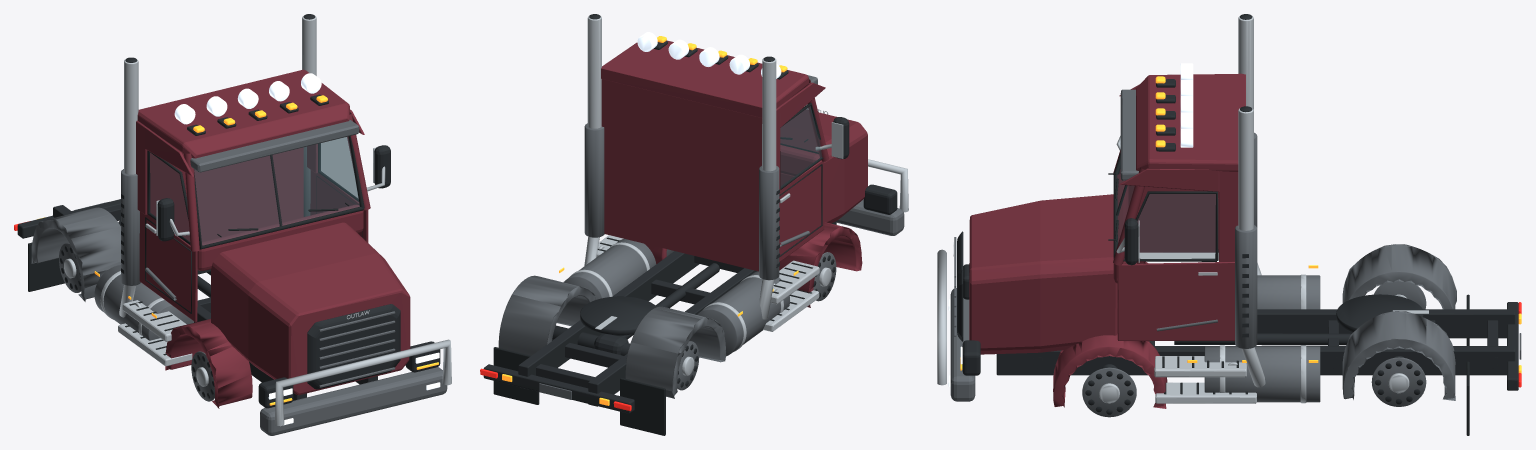
File: Outlaw_LOD1.fbx
The picture shows the model from 3 angles, left to right: view 1: azimuth 30°, elevation 25°; view 2: azimuth 150°, elevation 25°; view 3: azimuth 270°, elevation 25°; orthographic projection. The views are drawn at different scales.
Visible parts, largest first — view 1: CabExterior__TT_Paint_Primary.001, Chassis__TT_Paint_Primary.001, Chassis__TT_MetalTrim.001, CabExterior__TT_Glass.001, Chassis__TT_Chassis.001, Chassis__TT_Chrome.001, CabExterior__TT_Rubber.001, CabExterior__TT_MetalTrim.001, CabExterior__TT_Chrome.001, CabExterior__TT_Chassis.001, LampHighBeam__TT_Headlamp.001, Chassis__TT_Rubber.001 (+3 smaller); view 2: CabExterior__TT_Paint_Primary.001, Chassis__TT_MetalTrim.001, Chassis__TT_Chassis.001, Chassis__TT_Paint_Primary.001, Chassis__TT_Chrome.001, Chassis__TT_Rubber.001, CabExterior__TT_Chrome.001, CabExterior__TT_Glass.001, LampHighBeam__TT_Headlamp.001, CabExterior__TT_Rubber.001, CabExterior__TT_Chassis.001, Wheel_RR__TT_MetalTrim.001 (+2 smaller); view 3: CabExterior__TT_Paint_Primary.001, Chassis__TT_Paint_Primary.001, Chassis__TT_MetalTrim.001, Chassis__TT_Chassis.001, Chassis__TT_Chrome.001, CabExterior__TT_Glass.001, CabExterior__TT_Chrome.001, CabExterior__TT_Rubber.001, Wheel_FL__TT_MetalTrim.001, Wheel_RL__TT_MetalTrim.001, CabExterior__TT_Chassis.001, CabExterior__TT_MetalTrim.001 (+2 smaller).
Boxes of the visible parts, bbox=[...] form: CabExterior__TT_Paint_Primary.001: bbox=[136, 69, 370, 322]; Chassis__TT_Paint_Primary.001: bbox=[165, 222, 410, 408]; Chassis__TT_MetalTrim.001: bbox=[31, 146, 447, 435]; CabExterior__TT_Glass.001: bbox=[149, 137, 359, 245]; Chassis__TT_Chassis.001: bbox=[17, 14, 440, 408]; Chassis__TT_Chrome.001: bbox=[100, 16, 451, 425]; CabExterior__TT_Rubber.001: bbox=[125, 136, 364, 355]; CabExterior__TT_MetalTrim.001: bbox=[190, 119, 359, 172]; CabExterior__TT_Chrome.001: bbox=[118, 166, 385, 366]; CabExterior__TT_Chassis.001: bbox=[157, 94, 390, 241]; LampHighBeam__TT_Headlamp.001: bbox=[174, 73, 321, 124]; Chassis__TT_Rubber.001: bbox=[28, 202, 349, 291]; CabExterior__TT_Paint_Primary.001: bbox=[601, 40, 829, 271]; Chassis__TT_MetalTrim.001: bbox=[498, 123, 904, 399]; Chassis__TT_Chassis.001: bbox=[483, 14, 897, 413]; Chassis__TT_Paint_Primary.001: bbox=[644, 109, 867, 307]; Chassis__TT_Chrome.001: bbox=[569, 15, 908, 351]; Chassis__TT_Rubber.001: bbox=[493, 139, 807, 435]; CabExterior__TT_Chrome.001: bbox=[596, 144, 831, 331]; CabExterior__TT_Glass.001: bbox=[780, 106, 821, 186]; LampHighBeam__TT_Headlamp.001: bbox=[637, 32, 781, 78]; CabExterior__TT_Rubber.001: bbox=[597, 102, 823, 321]; CabExterior__TT_Chassis.001: bbox=[653, 40, 849, 159]; Wheel_RR__TT_MetalTrim.001: bbox=[677, 341, 699, 390]; CabExterior__TT_Paint_Primary.001: bbox=[1113, 73, 1245, 340]; Chassis__TT_Paint_Primary.001: bbox=[969, 194, 1167, 408]; Chassis__TT_MetalTrim.001: bbox=[950, 132, 1521, 402]; Chassis__TT_Chassis.001: bbox=[957, 14, 1518, 390]; Chassis__TT_Chrome.001: bbox=[937, 16, 1428, 403]; CabExterior__TT_Glass.001: bbox=[1117, 163, 1215, 258]; CabExterior__TT_Chrome.001: bbox=[1116, 136, 1256, 403]; CabExterior__TT_Rubber.001: bbox=[1113, 153, 1247, 394]; Wheel_FL__TT_MetalTrim.001: bbox=[1082, 367, 1136, 417]; Wheel_RL__TT_MetalTrim.001: bbox=[1371, 357, 1426, 406]; CabExterior__TT_Chassis.001: bbox=[1116, 79, 1175, 265]; CabExterior__TT_MetalTrim.001: bbox=[1120, 89, 1138, 180].
Bounding box in the file's own units: 312 × 398 × 642.
